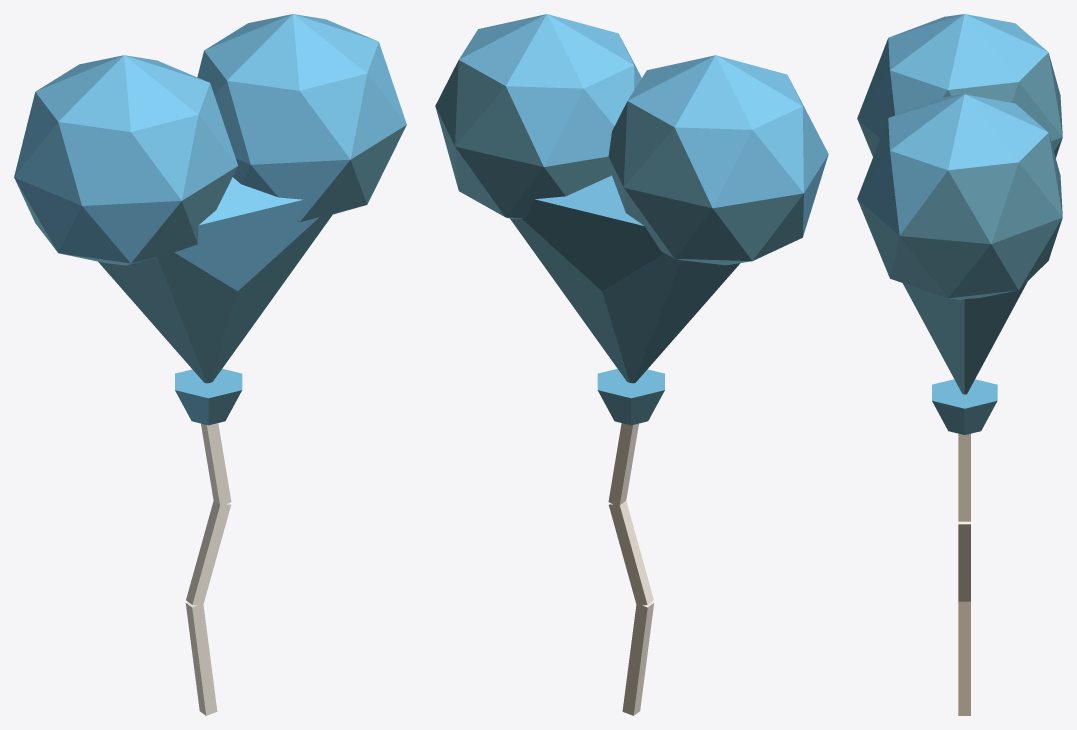
The model's file is balloon_heart.glb.
3 renders of one model, left to right at view 1: azimuth 30°, elevation 25°; view 2: azimuth 150°, elevation 25°; view 3: azimuth 270°, elevation 25°, orthographic. The views are drawn at different scales.
Parts seen in each view (by area): view 1: skin, string, knot; view 2: skin, string, knot; view 3: skin, string, knot.
Part boxes in pixels (bbox=[...]): skin: bbox=[14, 14, 406, 383]; string: bbox=[185, 423, 231, 715]; knot: bbox=[175, 369, 242, 425]; skin: bbox=[435, 14, 828, 383]; string: bbox=[608, 423, 653, 715]; knot: bbox=[597, 369, 664, 425]; skin: bbox=[857, 14, 1062, 394]; string: bbox=[958, 433, 970, 715]; knot: bbox=[932, 379, 997, 434].
Bounding box in the file's own units: 0.0651 × 0.1151 × 0.0325.
